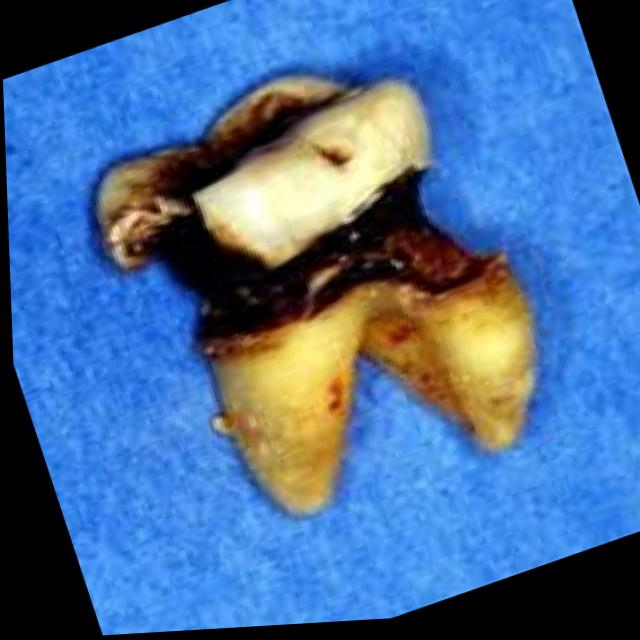tooth-discoloration: (92, 75, 532, 509)
